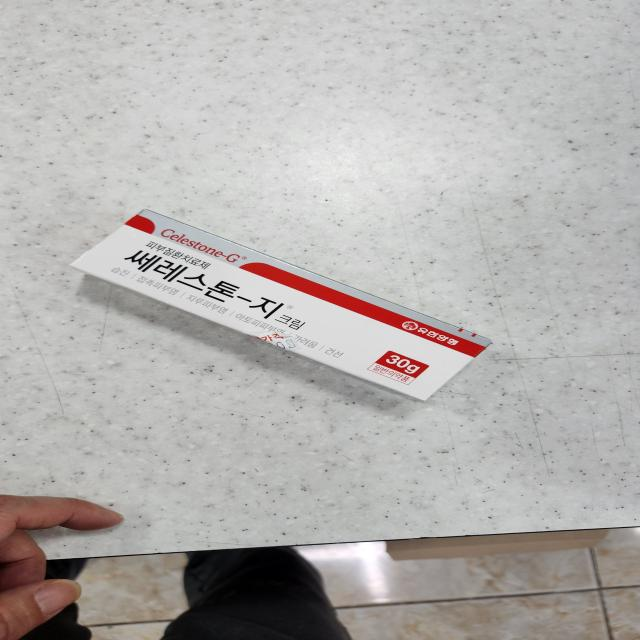box: (72, 210, 490, 400), (386, 529, 609, 560)
